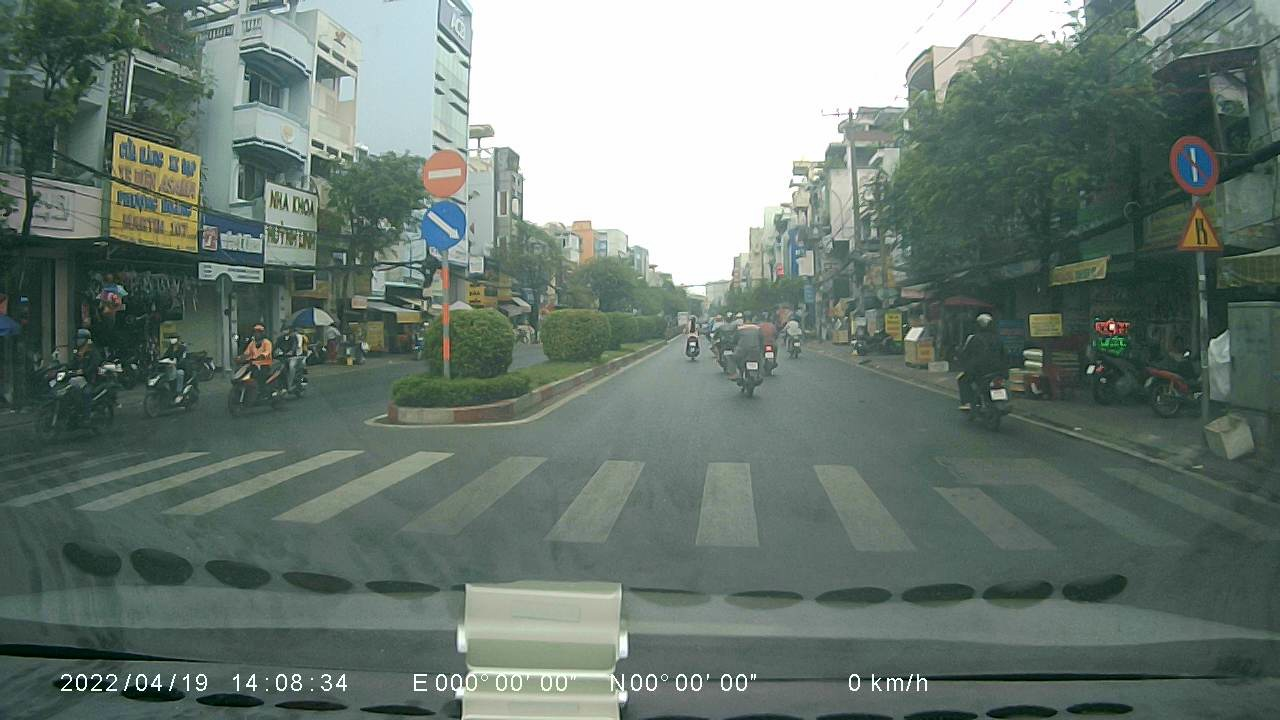Bien khac: (1162, 131, 1219, 195), (1173, 202, 1225, 251)
Cam di nguoc chieu: (421, 147, 470, 196)
Huong di phai re phai: (418, 200, 470, 251)
